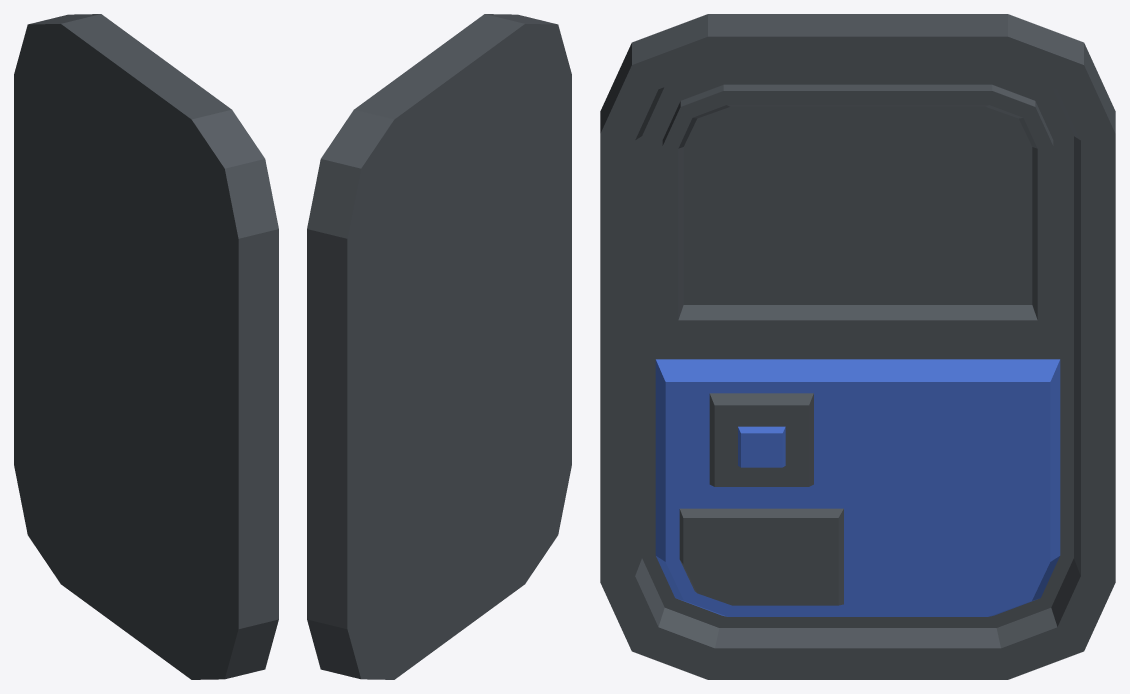
Rendered from Fighter_04_Detail_2_Blue.fbx.
3 views of the same model, side by side, from view 1: azimuth 30°, elevation 25°; view 2: azimuth 150°, elevation 25°; view 3: azimuth 270°, elevation 25° (orthographic). The views are drawn at different scales.
Parts seen in each view (by area): view 1: Fighter_04_Detail_2_Blue; view 2: Fighter_04_Detail_2_Blue; view 3: Fighter_04_Detail_2_Blue.
Part boxes in pixels (left/top/right/bottom): Fighter_04_Detail_2_Blue: left=14, top=14, right=278, bottom=679; Fighter_04_Detail_2_Blue: left=307, top=14, right=571, bottom=679; Fighter_04_Detail_2_Blue: left=600, top=14, right=1115, bottom=679.
Bounding box in the file's own units: 18.34 × 159 × 115.
2 materials, 2 textured.
